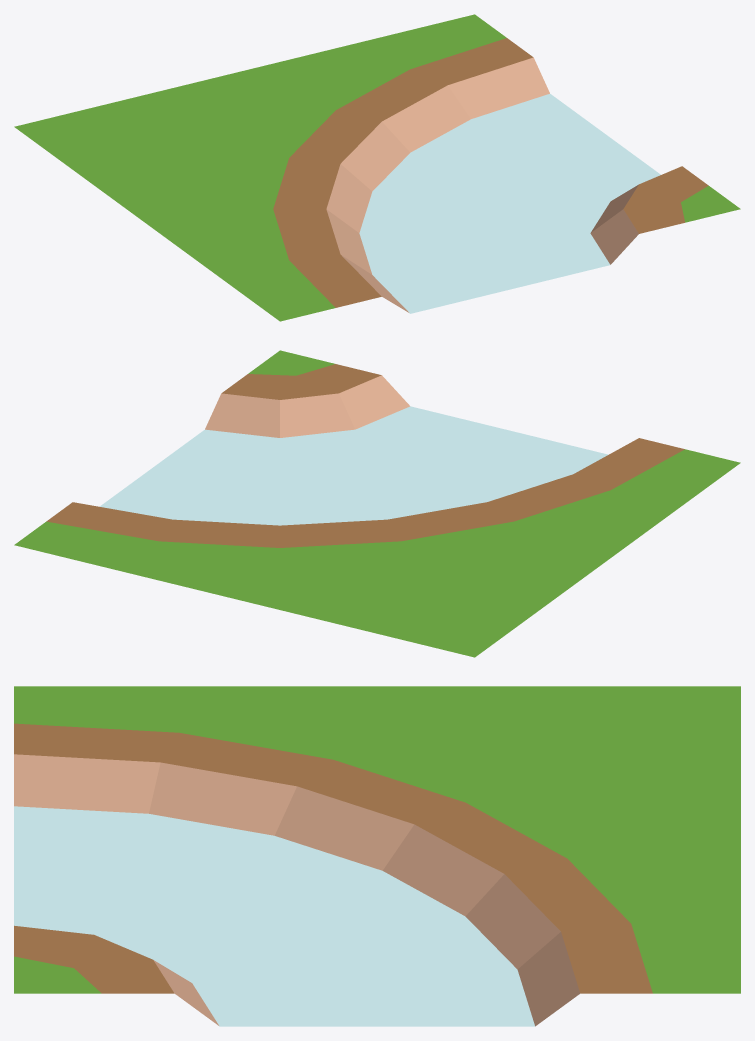
File: ground_riverBend.glb
3 views of the same model, one above another, from view 1: azimuth 30°, elevation 25°; view 2: azimuth 150°, elevation 25°; view 3: azimuth 270°, elevation 25° (orthographic). The views are drawn at different scales.
Parts seen in each view (by area): view 1: ground_riverBend; view 2: ground_riverBend; view 3: ground_riverBend.
Part boxes in pixels (x1,y1,x2,y2): ground_riverBend: (14,14,740,321); ground_riverBend: (14,350,740,657); ground_riverBend: (14,686,740,1026).
Size of the model in its own units: 1 by 0.05 by 1.
